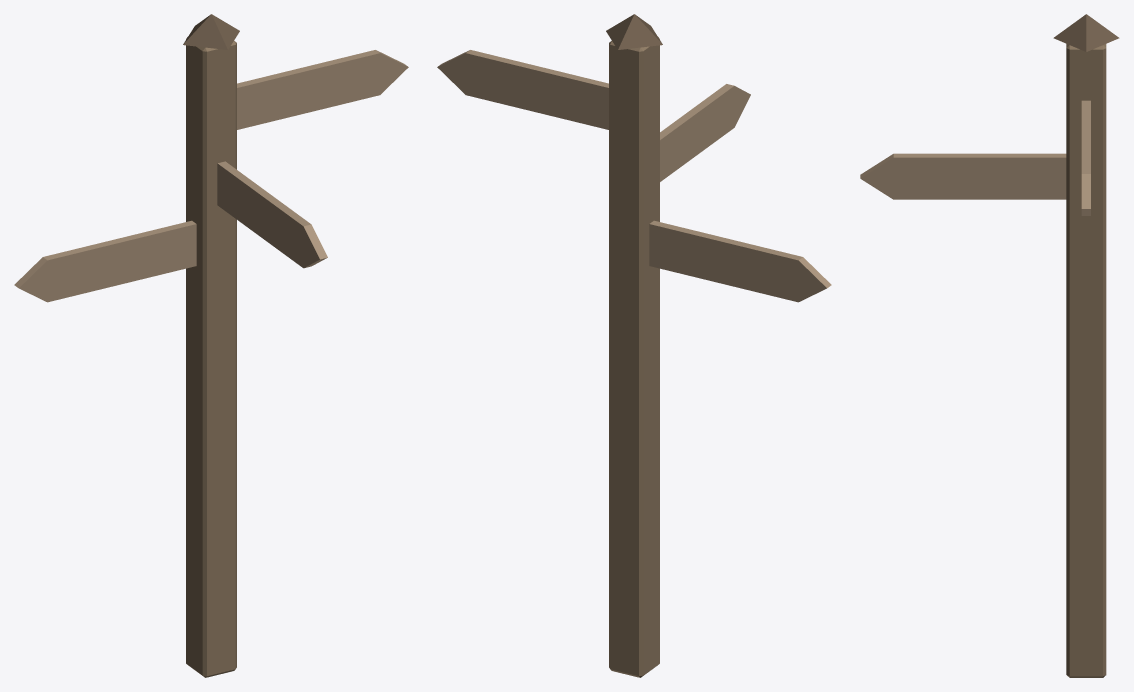
File: signpost.glb
3 renders of one model, left to right at view 1: azimuth 30°, elevation 25°; view 2: azimuth 150°, elevation 25°; view 3: azimuth 270°, elevation 25°, orthographic.
Parts seen in each view (by area): view 1: Signpost; view 2: Signpost; view 3: Signpost.
Boxes of the visible parts, left/top/right/bottom form: Signpost: left=14, top=14, right=408, bottom=677; Signpost: left=437, top=14, right=831, bottom=677; Signpost: left=860, top=14, right=1119, bottom=677.
Bounding box in the file's own units: 1.36 × 2.18 × 0.78.
